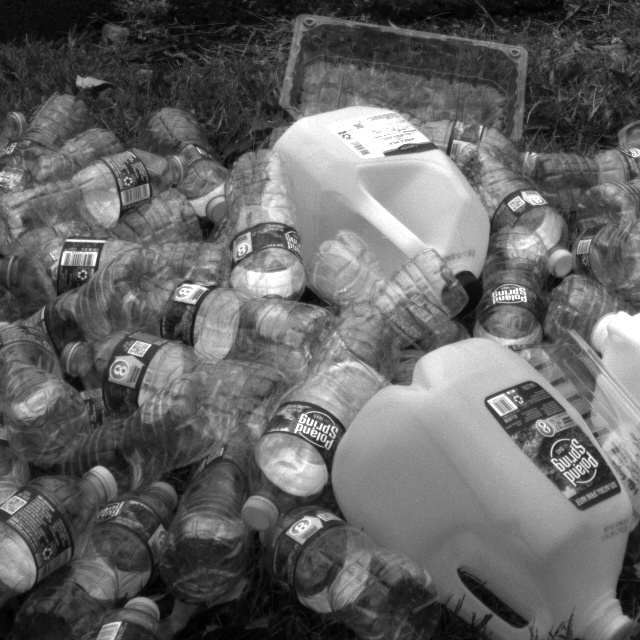bottle: (213, 491, 426, 638), (0, 126, 189, 267), (217, 350, 372, 512), (77, 333, 291, 434), (0, 232, 224, 324), (0, 472, 105, 640), (226, 133, 315, 327), (0, 307, 95, 486), (0, 218, 177, 300), (471, 264, 543, 369)
can: (356, 321, 640, 619), (269, 95, 502, 343), (560, 288, 640, 539)
container: (294, 0, 560, 160), (517, 318, 640, 526)
